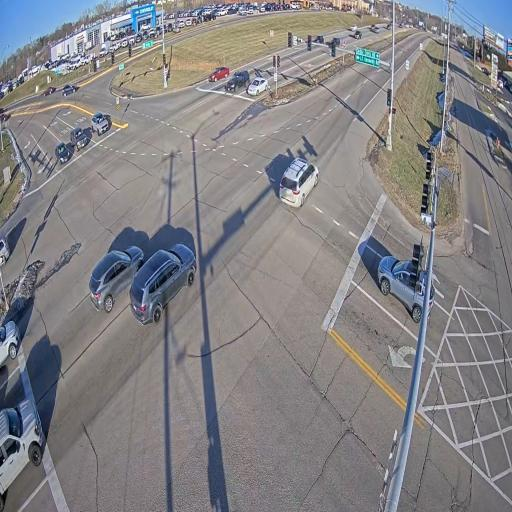pickup: (0, 399, 42, 512), (70, 126, 87, 151)
sedan: (247, 77, 268, 95), (55, 143, 70, 165), (209, 67, 229, 82), (43, 86, 56, 96)
suv: (130, 243, 197, 325), (89, 245, 144, 312), (377, 255, 426, 323), (279, 158, 319, 207), (0, 320, 20, 366), (225, 70, 250, 91), (91, 112, 110, 136), (429, 286, 435, 317), (62, 84, 77, 96), (354, 30, 362, 39)
